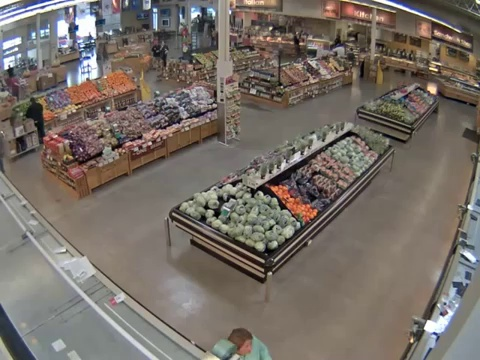face: (239, 340, 253, 355)
